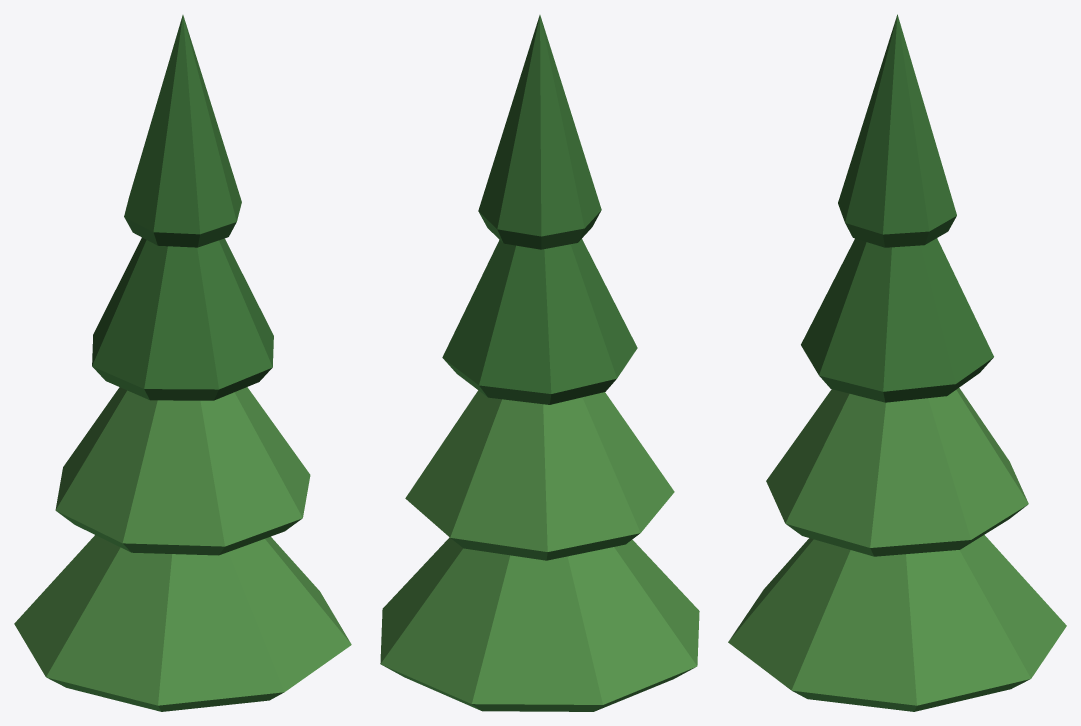
File: tree_pineGroundB.glb
The picture shows the model from 3 angles, left to right: view 1: azimuth 30°, elevation 25°; view 2: azimuth 150°, elevation 25°; view 3: azimuth 270°, elevation 25°; orthographic projection.
Parts seen in each view (by area): view 1: tree_pineGroundB; view 2: tree_pineGroundB; view 3: tree_pineGroundB.
Part boxes in pixels (box(x1,y1,x2,y2)): tree_pineGroundB: box(14, 15, 351, 711); tree_pineGroundB: box(380, 15, 699, 711); tree_pineGroundB: box(728, 14, 1066, 711).
Size of the model in its own units: 0.4967 by 1.03 by 0.4967.
1 material, 1 textured.
